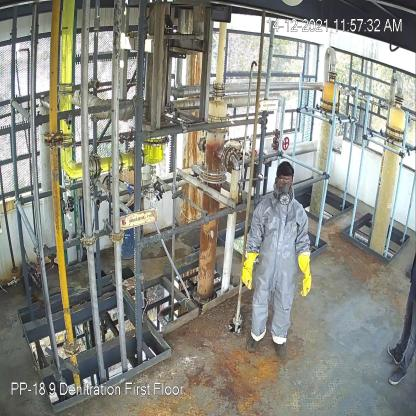goggles: (278, 177, 293, 186)
mask: (276, 184, 293, 206)
